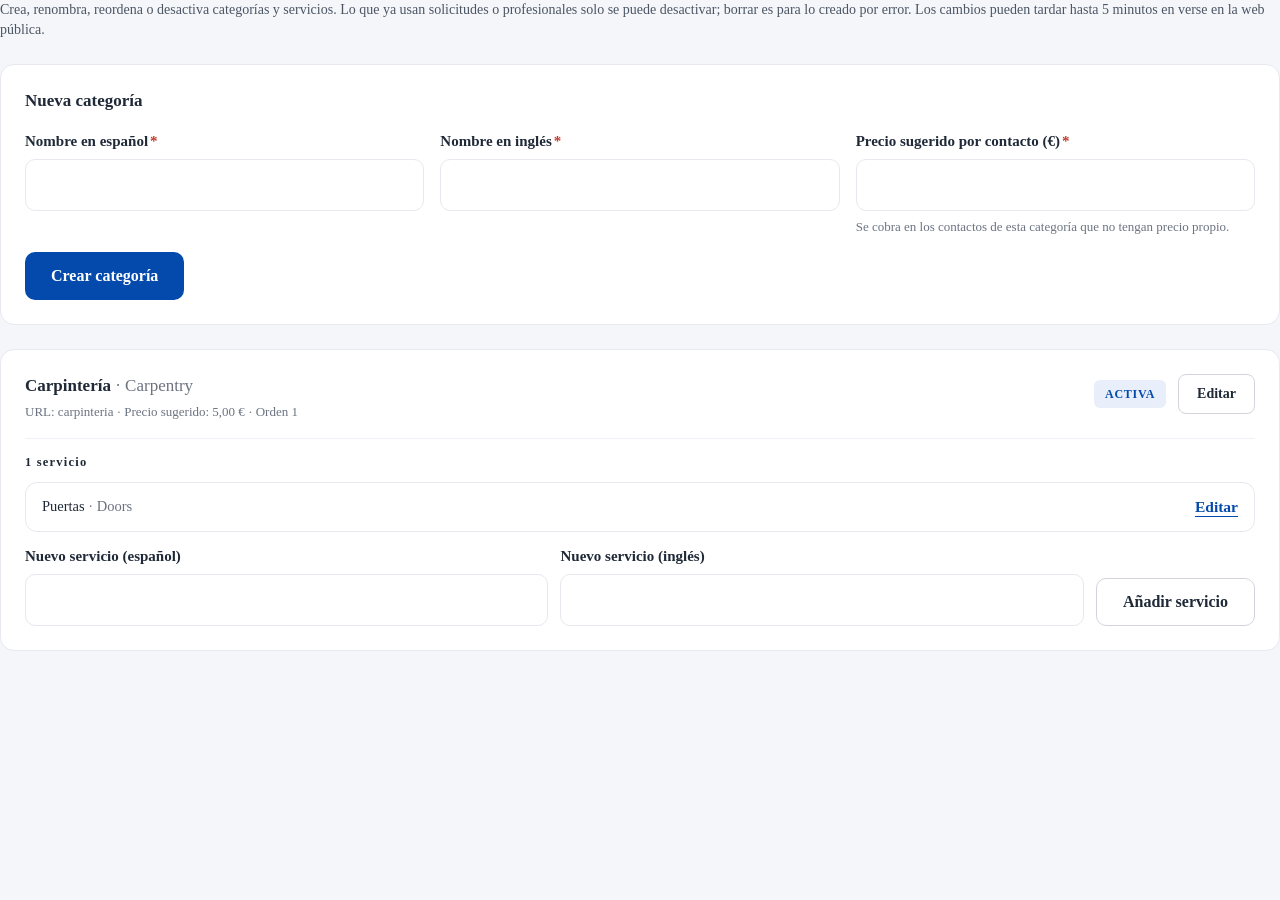
Test case: AdminCatalog › asks before deleting and explains when it is in use
Check: the heading "Carpintería · Carpentry" is shown, box [25,376,193,395]
Step 1. Click the button with aria-label "Editar «Carpintería»" → (1217, 394), box [1178,374,1255,414]
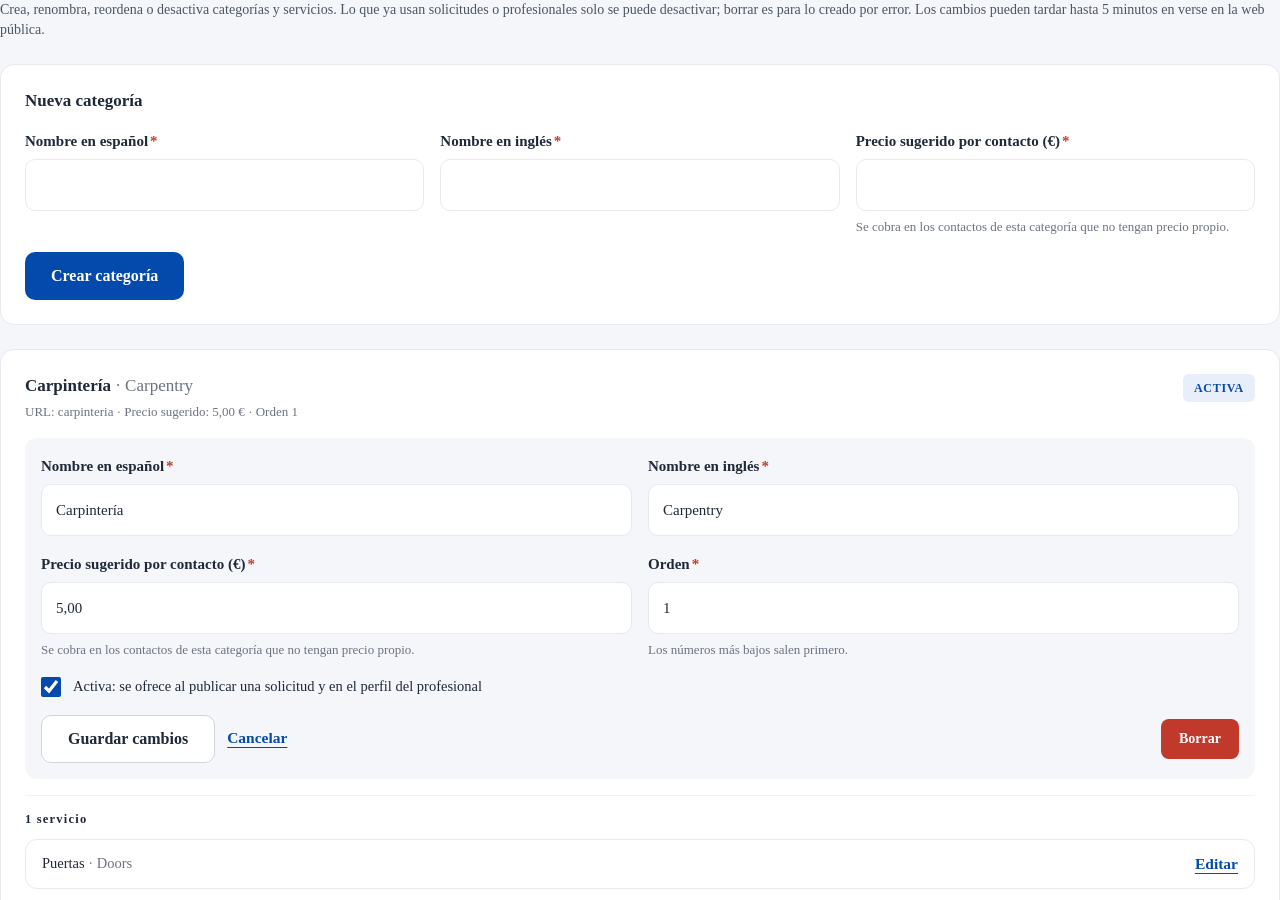
Step 2. Click the button "Borrar" → (1200, 739), box [1161,719,1239,759]
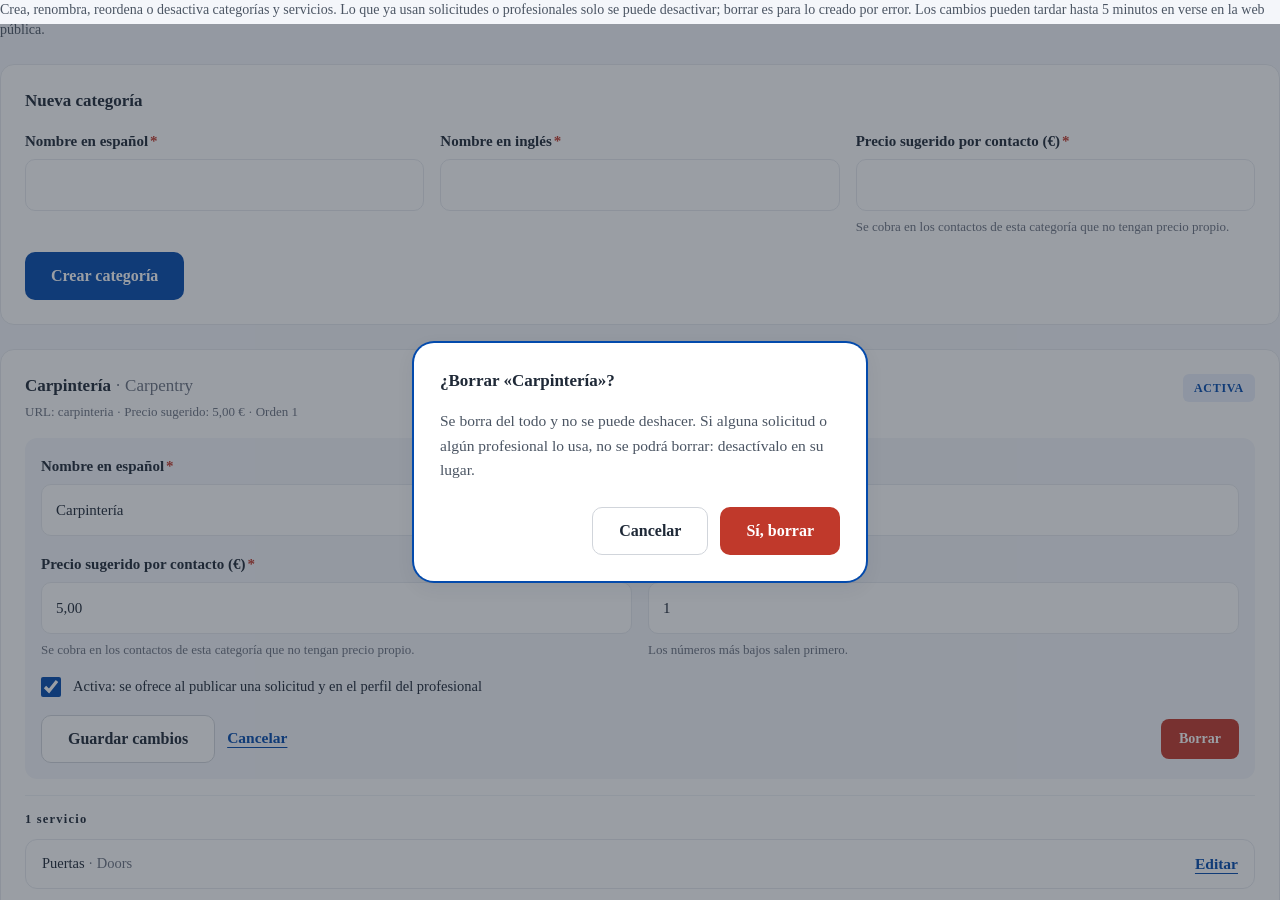
Step 3. Click the button "Sí, borrar" → (780, 531), box [720,507,840,555]
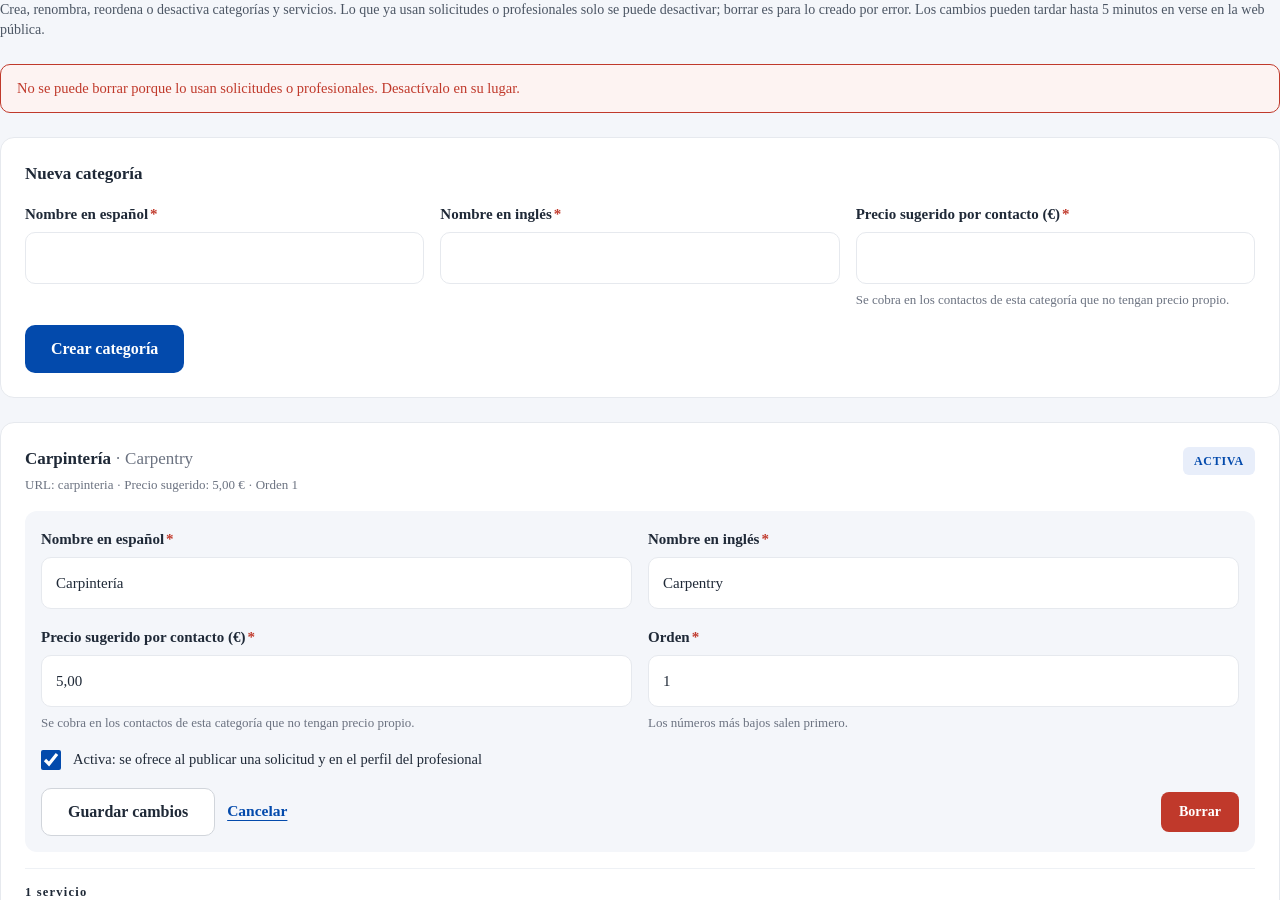
Check: the heading "Carpintería · Carpentry" is shown, box [25,450,193,468]
Check: the text "No se puede borrar porque lo usan solicitudes o profesionales. Desactívalo en su lugar." is shown, box [17,80,520,96]
Check: the dialog is gone
